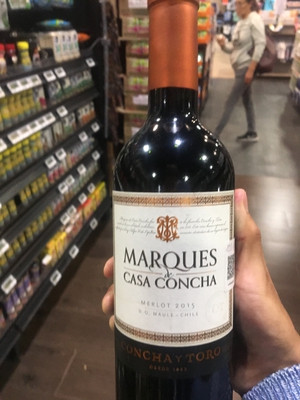marques de casa concha merlot: (104, 7, 250, 400)
